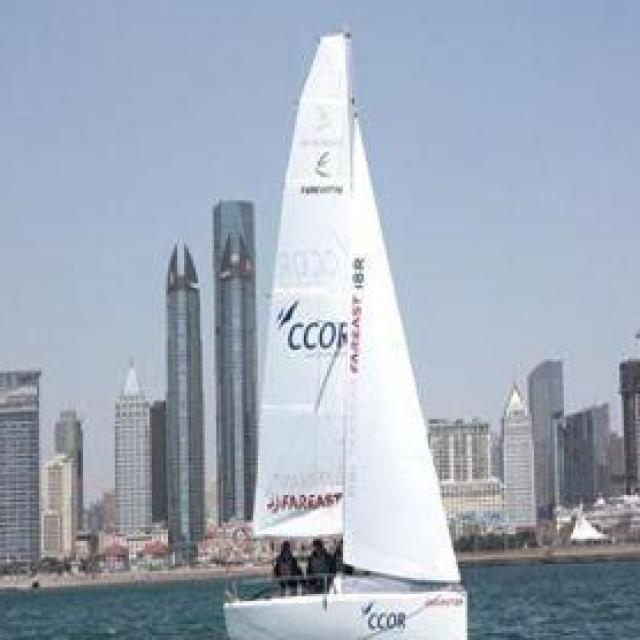sailboat: (210, 0, 474, 640)
